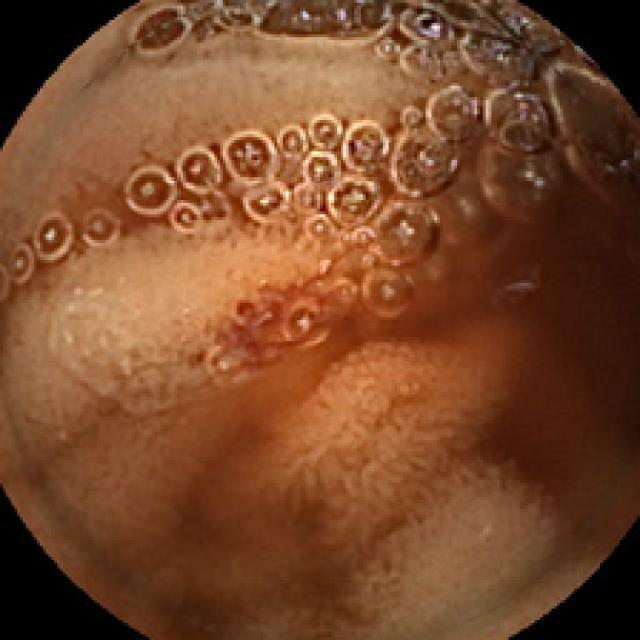bleeding: (205, 268, 348, 381)
